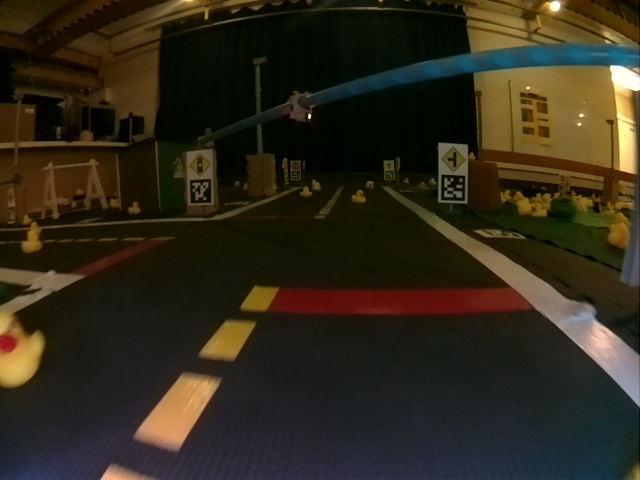Duckie: (1, 314, 42, 387), (608, 224, 630, 250), (22, 234, 41, 252), (531, 204, 547, 217), (518, 200, 532, 214), (615, 213, 628, 224), (29, 223, 42, 233), (353, 192, 365, 202), (130, 204, 140, 213), (301, 187, 311, 196)
Intersection sign: (438, 143, 467, 173), (385, 161, 393, 171)
QR code: (439, 175, 466, 203), (187, 179, 213, 205), (478, 229, 523, 239), (291, 171, 301, 180), (385, 171, 394, 180)
Signal sign: (187, 151, 213, 177)
Stop sign: (291, 161, 301, 171)
Traffic light: (291, 93, 312, 122)
